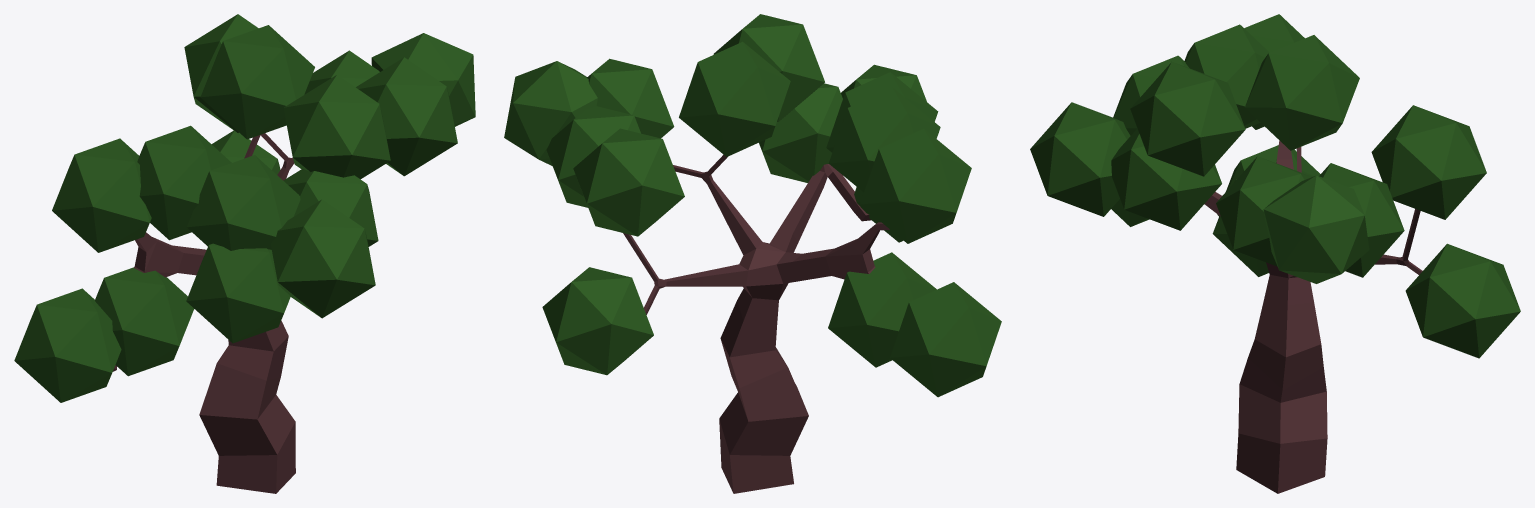
File: Big_Tree_Model.glb
The picture shows the model from 3 angles, left to right: view 1: azimuth 30°, elevation 25°; view 2: azimuth 150°, elevation 25°; view 3: azimuth 270°, elevation 25°; orthographic projection.
Parts seen in each view (by area): view 1: Icosphere.002; view 2: Icosphere.002; view 3: Icosphere.002.
Part boxes in pixels (x1=…): Icosphere.002: x1=14, y1=14, x2=475, y2=493; Icosphere.002: x1=504, y1=14, x2=1001, y2=493; Icosphere.002: x1=1030, y1=14, x2=1520, y2=493.
Bounding box in the file's own units: 189 × 167 × 172.
